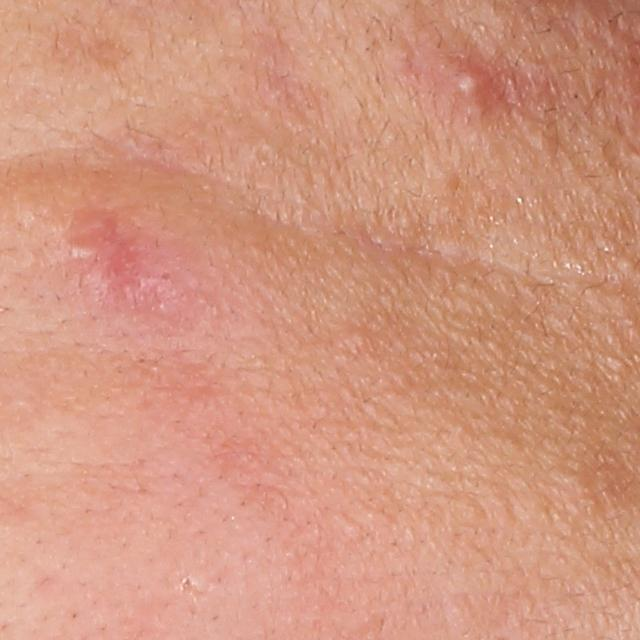comedo: (526, 129, 556, 153)
pustule: (446, 61, 483, 100)
